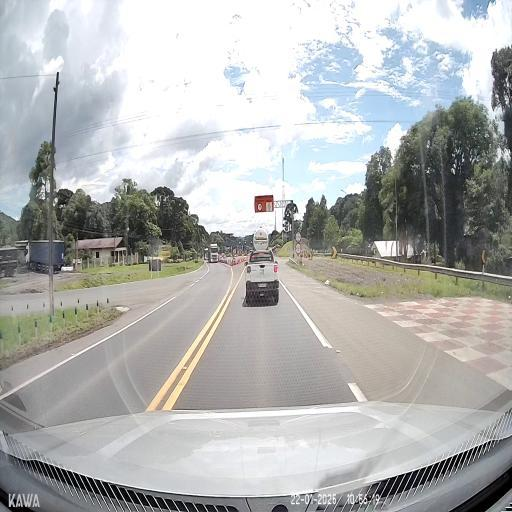R-19: (257, 203, 262, 211)
